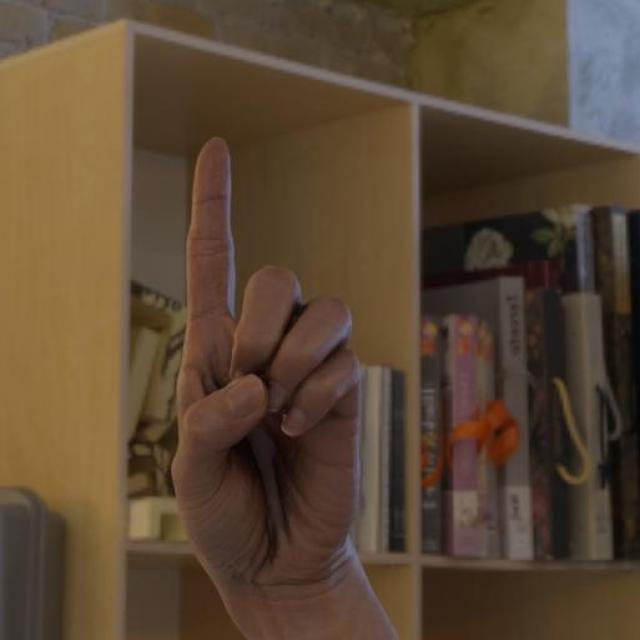D: (157, 124, 377, 618)
